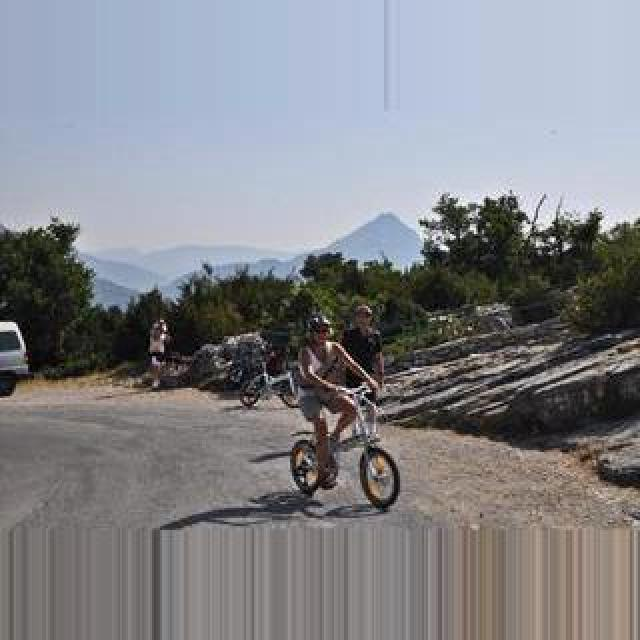MC-Bike: (294, 314, 382, 490), (340, 302, 384, 408)
Person: (281, 395, 397, 523)
